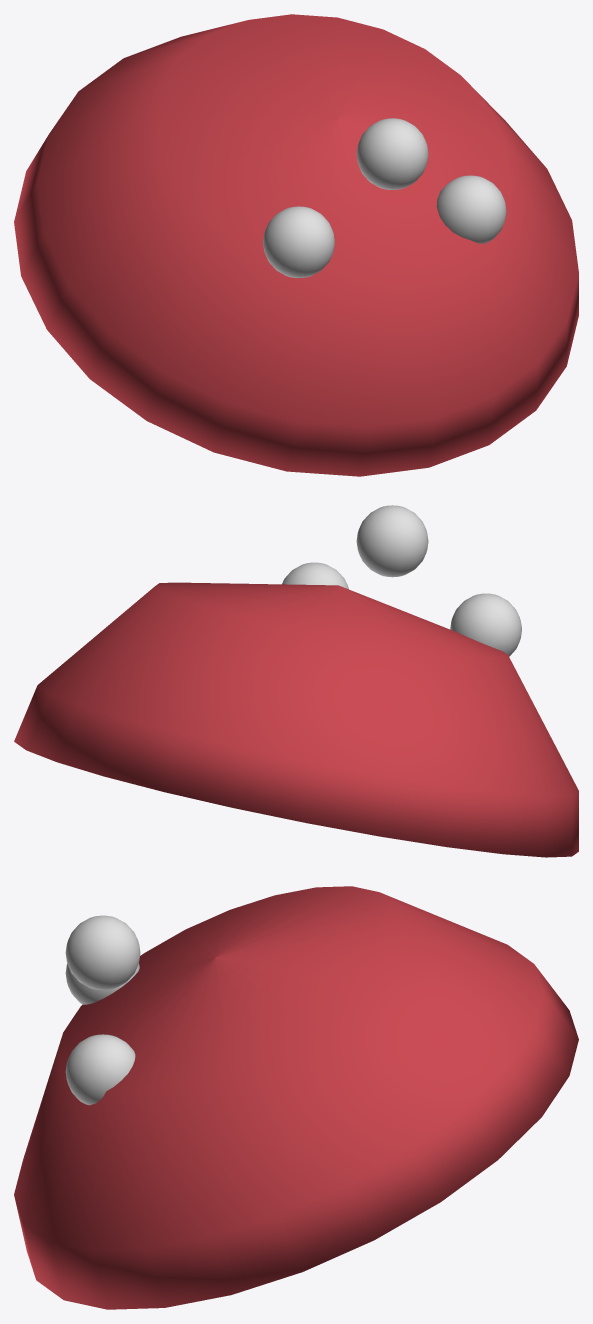
The model's file is mat_cap.glb.
3 views of the same model, one above another, from view 1: azimuth 30°, elevation 25°; view 2: azimuth 150°, elevation 25°; view 3: azimuth 270°, elevation 25° (orthographic). The views are drawn at different scales.
Parts seen in each view (by area): view 1: _lathe; view 2: _lathe; view 3: _lathe.
Part boxes in pixels (<box>): _lathe: <box>14,14,578,476</box>; _lathe: <box>14,505,578,857</box>; _lathe: <box>14,886,578,1309</box>.
Size of the model in its own units: 0.96 by 0.5869 by 0.9048.
